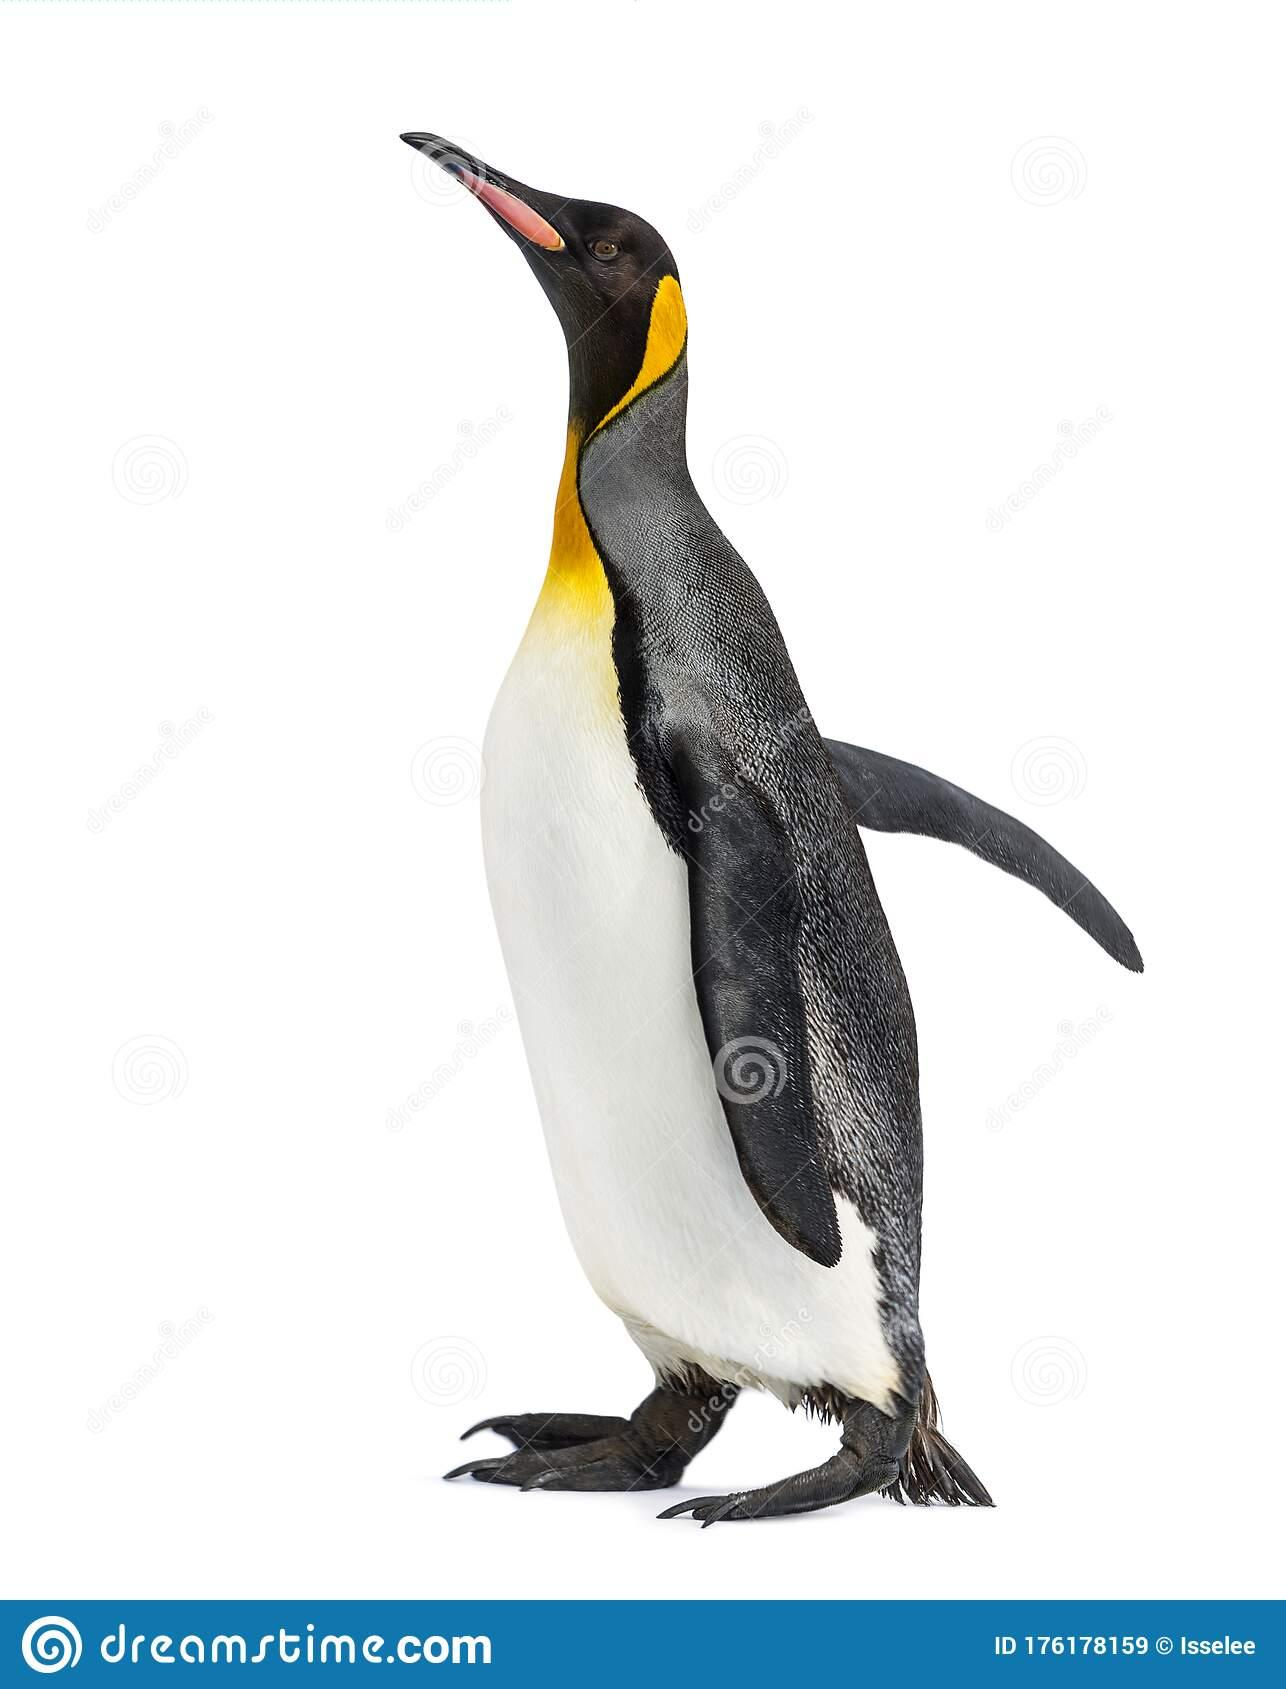king: (285, 93, 1173, 1546)
